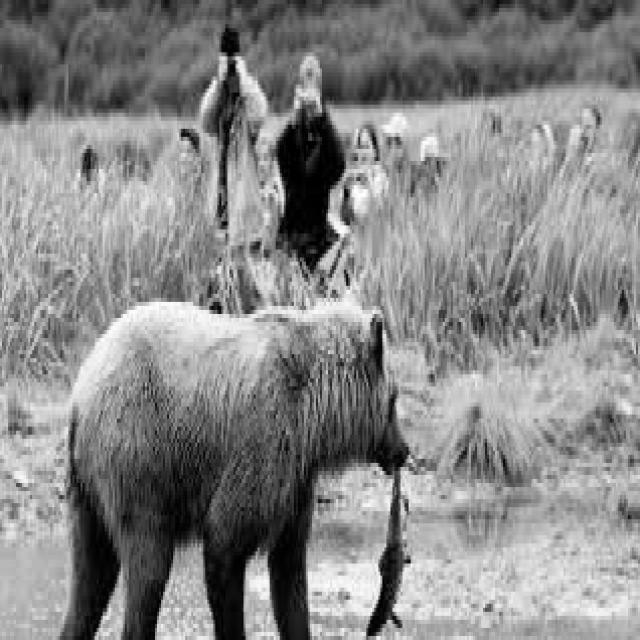Bear: (61, 302, 410, 640)
